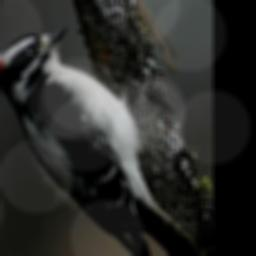Woodpecker: (0, 26, 200, 256)
